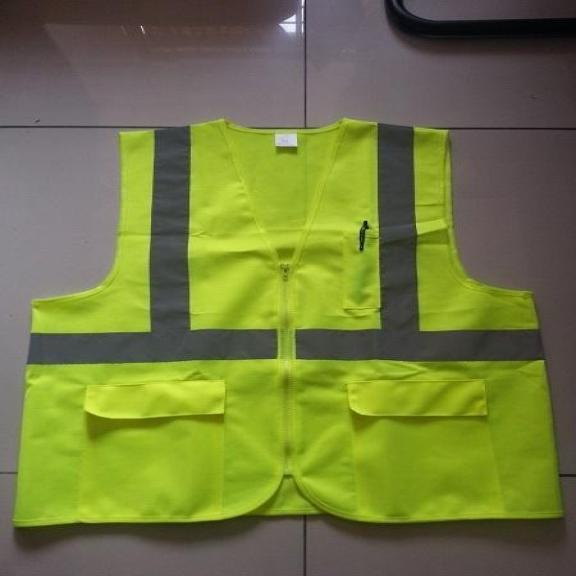safety_vest: (5, 117, 566, 524)
